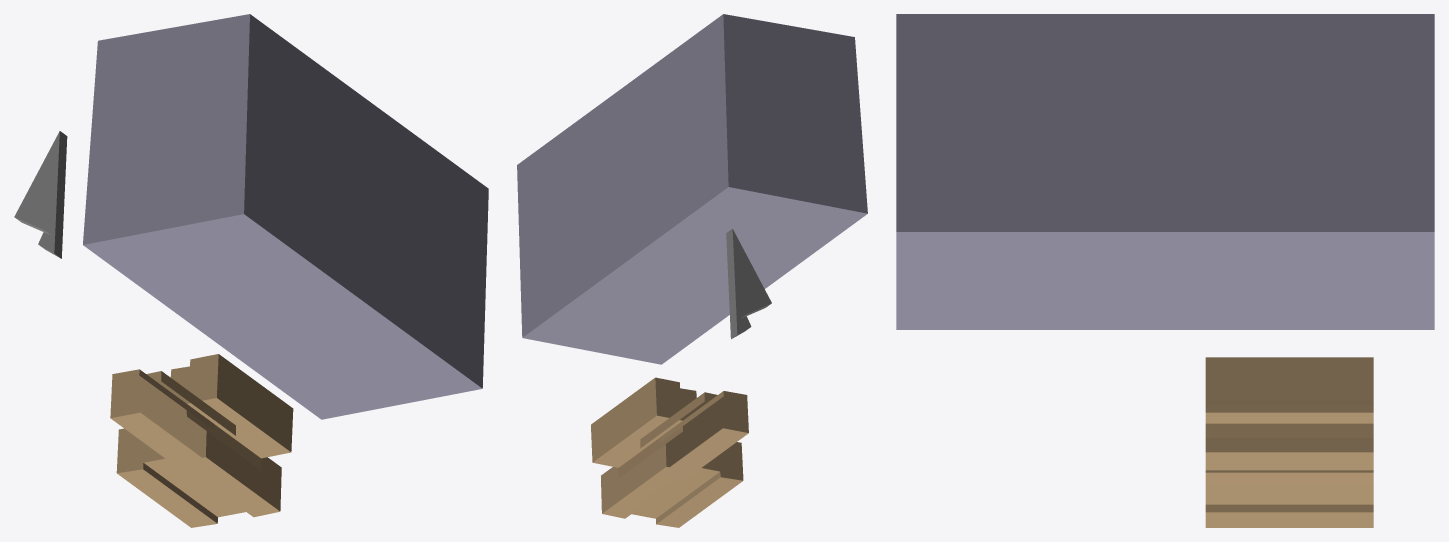
3 views of the same model, side by side, from view 1: azimuth 30°, elevation 25°; view 2: azimuth 150°, elevation 25°; view 3: azimuth 270°, elevation 25° (orthographic). The views are drawn at different scales.
Parts seen in each view (by area): view 1: 0_3_2_0_1_3_0_1; view 2: 0_3_2_0_1_3_0_1; view 3: 0_3_2_0_1_3_0_1.
Boxes of the visible parts, bbox=[...] form: 0_3_2_0_1_3_0_1: bbox=[14, 14, 488, 527]; 0_3_2_0_1_3_0_1: bbox=[517, 14, 867, 527]; 0_3_2_0_1_3_0_1: bbox=[896, 14, 1434, 527].
Bounding box in the file's own units: 60.78 × 92.35 × 96.
